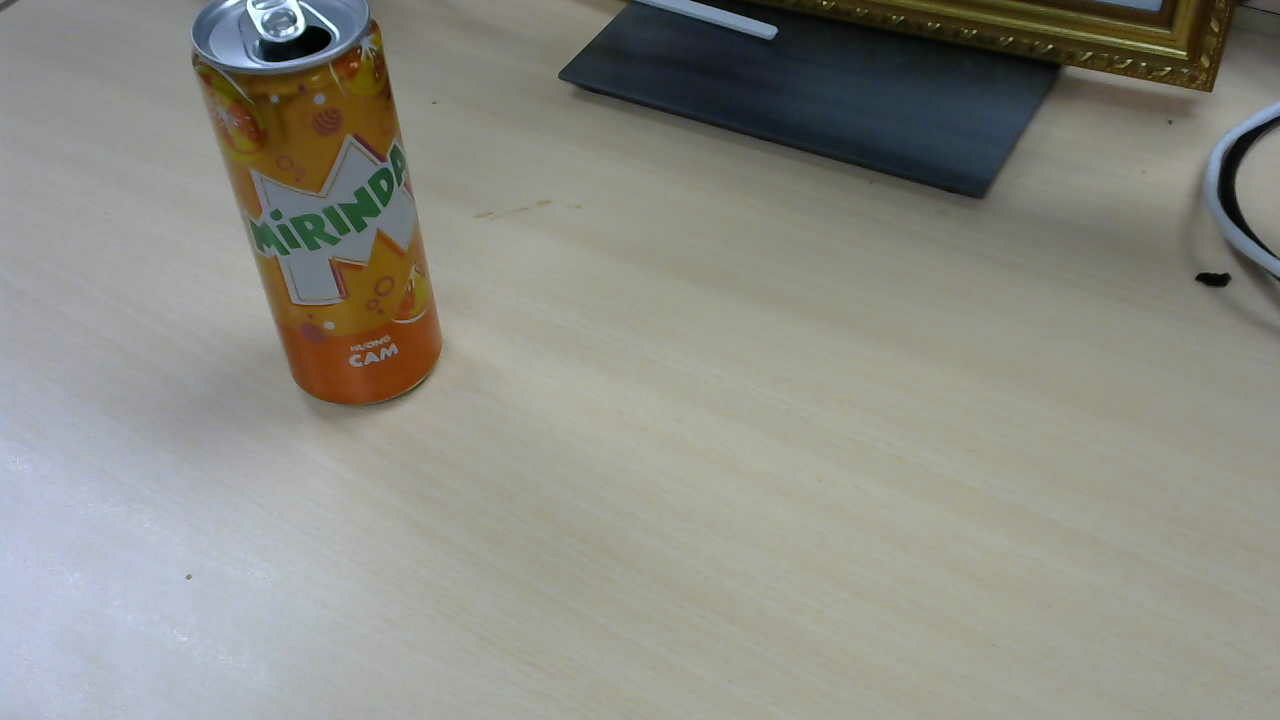Mirinda: (195, 4, 449, 416)
